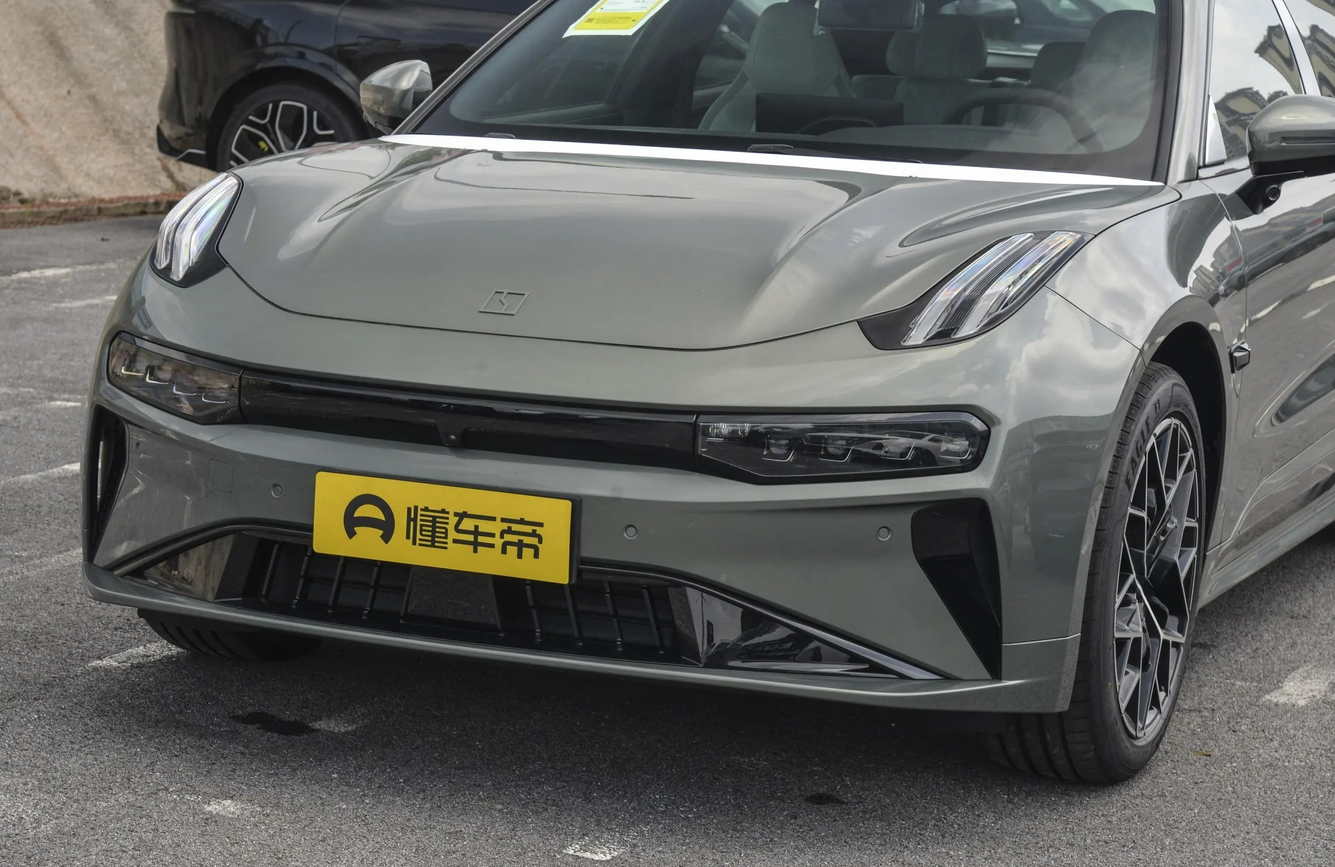ZEEKR: (479, 289, 529, 314)
